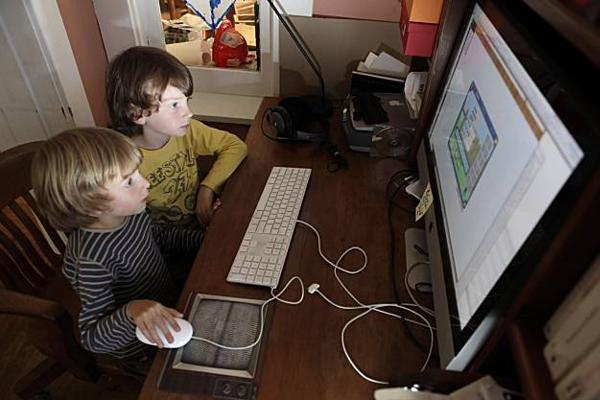person: (35, 127, 221, 381)
